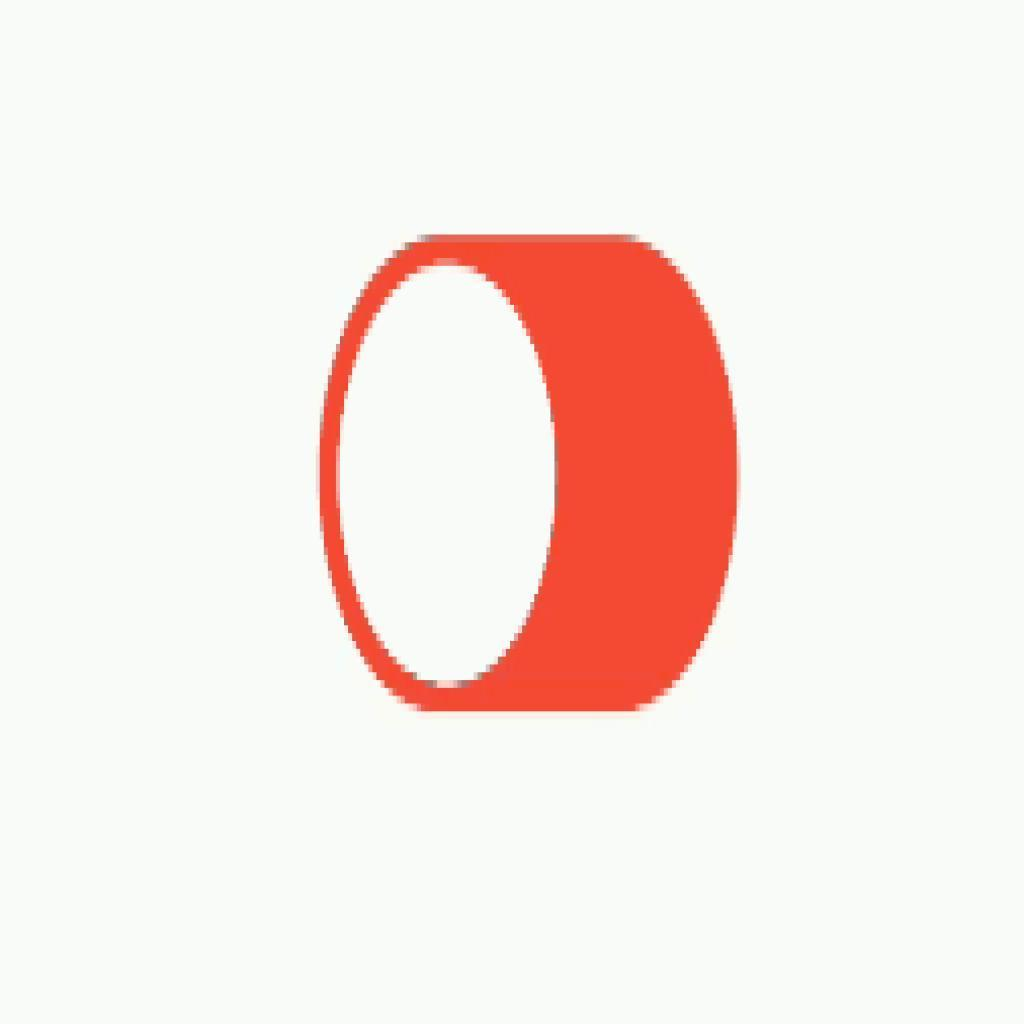switch: (323, 240, 739, 715)
